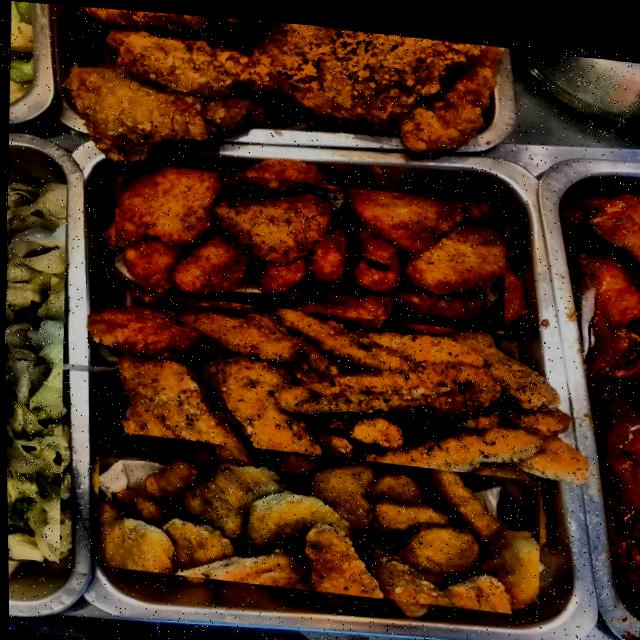Food: (92, 427, 541, 608), (110, 157, 507, 325), (2, 176, 70, 566)
